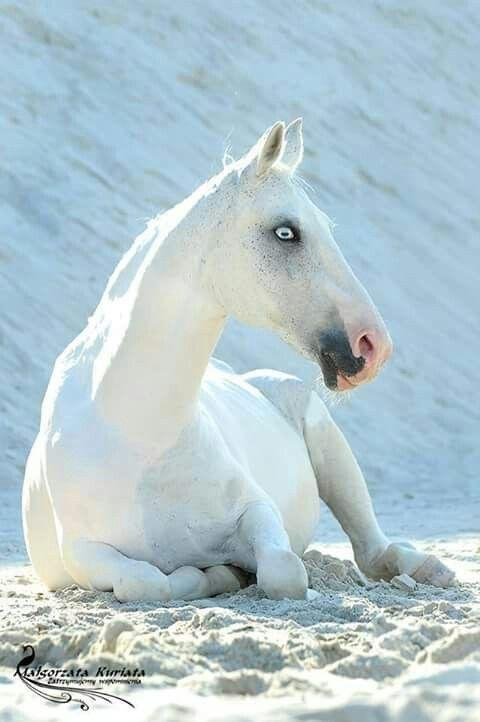horse: (20, 115, 457, 604)
